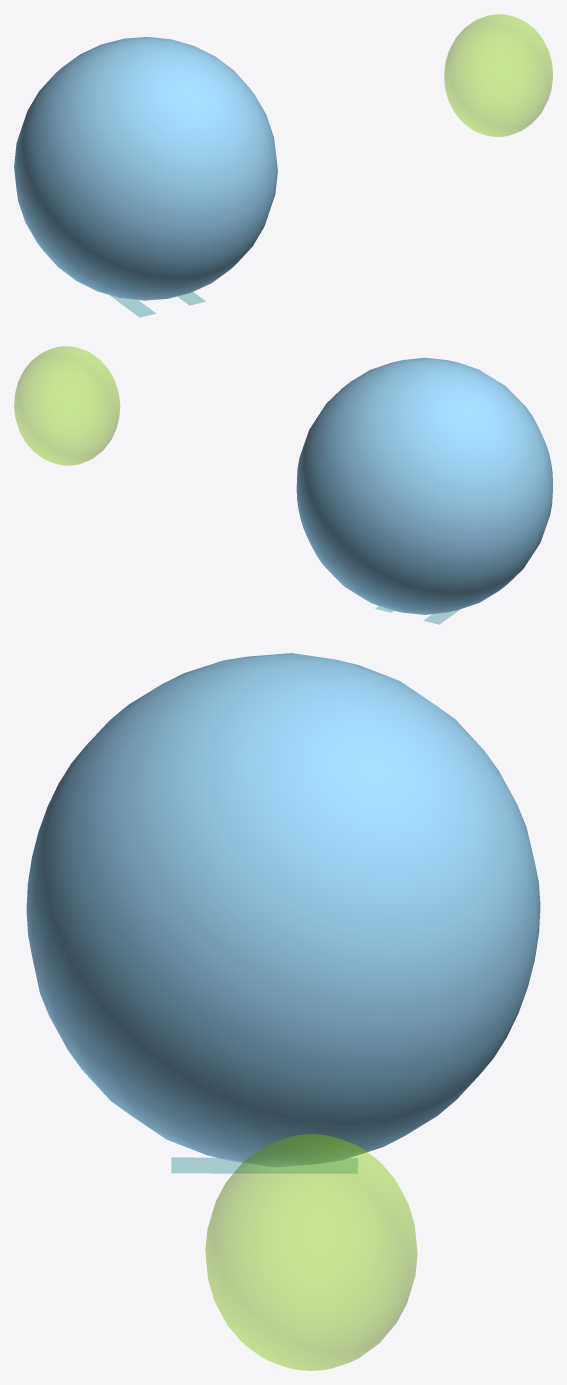
File: dpsd19015.H.atom.gltf
The picture shows the model from 3 angles, top to bottom: view 1: azimuth 30°, elevation 25°; view 2: azimuth 150°, elevation 25°; view 3: azimuth 270°, elevation 25°; orthographic projection. The views are drawn at different scales.
Visible parts, largest first — view 1: Sphere, Sphere.002, Text; view 2: Sphere, Sphere.002; view 3: Sphere, Sphere.002, Text.
Boxes of the visible parts, x1,y1,x2,y2 form: Sphere: (14, 37, 277, 300); Sphere.002: (444, 14, 552, 136); Text: (109, 292, 205, 317); Sphere: (296, 357, 552, 614); Sphere.002: (14, 346, 119, 465); Sphere: (26, 653, 540, 1167); Sphere.002: (205, 1134, 417, 1370); Text: (171, 1157, 357, 1173).
Bounding box in the file's own units: 1.93 × 0.845 × 0.8438.
